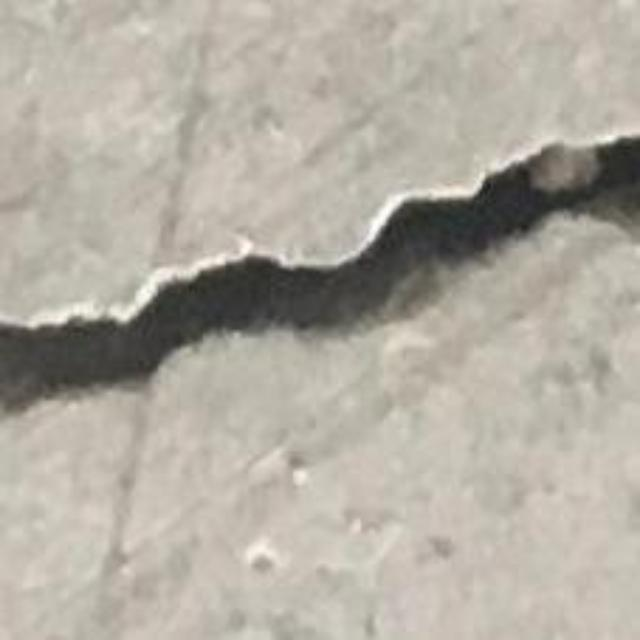crack: (0, 136, 639, 414)
